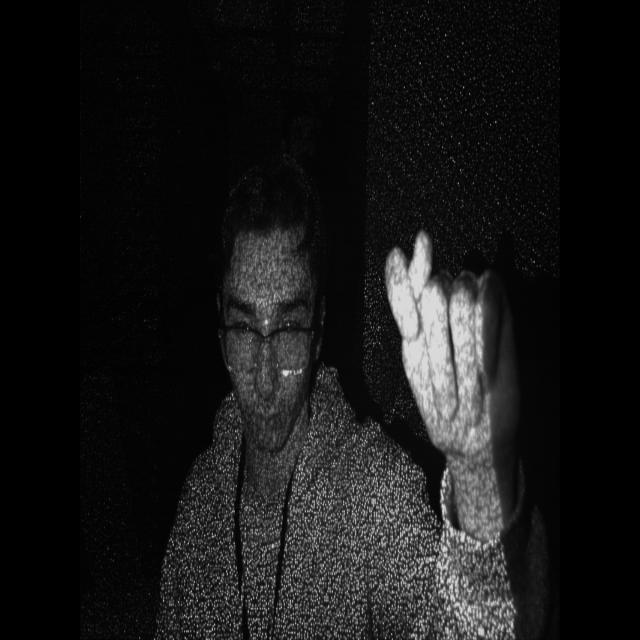T: (370, 205, 530, 471)
